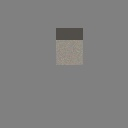supply_truck: (56, 28, 83, 65)
